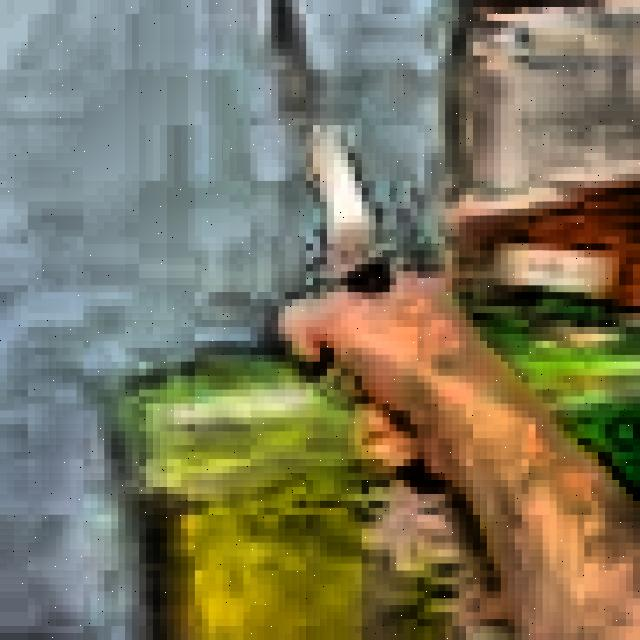knife: (272, 0, 446, 494)
